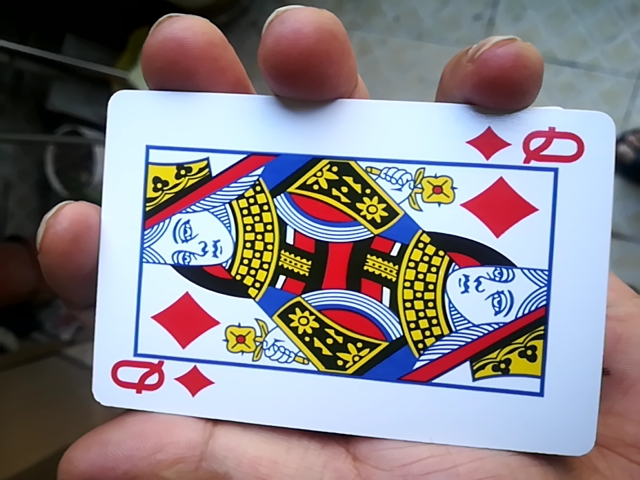fk q: (83, 87, 621, 456)
